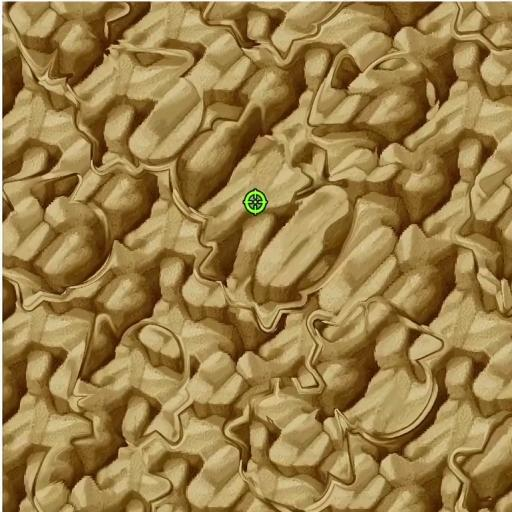Target: (194, 184, 358, 334), (304, 290, 450, 446), (169, 92, 316, 228), (219, 372, 361, 511), (70, 43, 212, 178), (71, 306, 201, 451), (3, 166, 119, 314), (305, 49, 443, 149), (4, 2, 135, 104), (31, 427, 181, 510), (196, 2, 344, 64), (445, 405, 512, 512), (450, 2, 512, 59)
